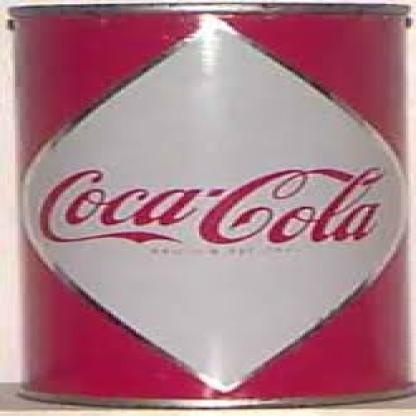trash: (10, 5, 412, 405)
